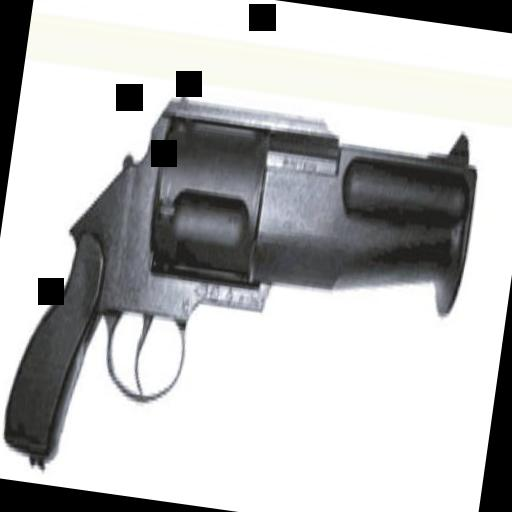Handgun: (0, 70, 483, 512)
